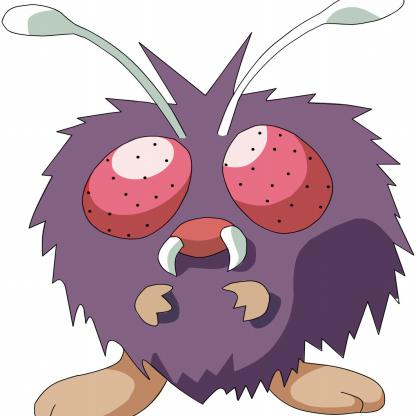Venonat: (1, 1, 416, 416)
